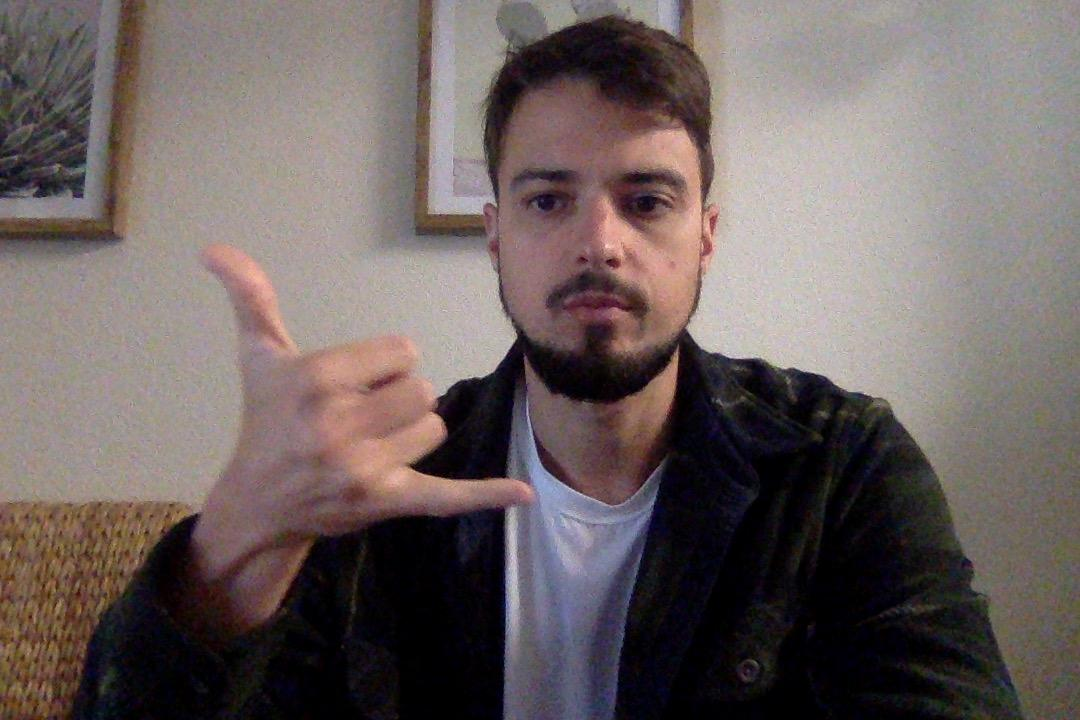Call-Me: (180, 248, 550, 582)
